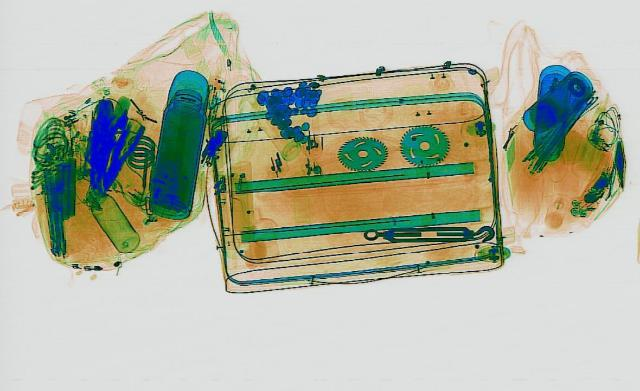Pliers: (92, 122, 146, 189)
